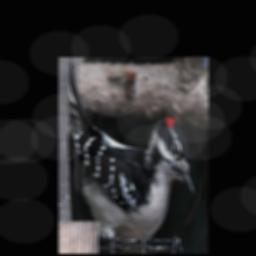Woodpecker: (67, 60, 195, 248)
